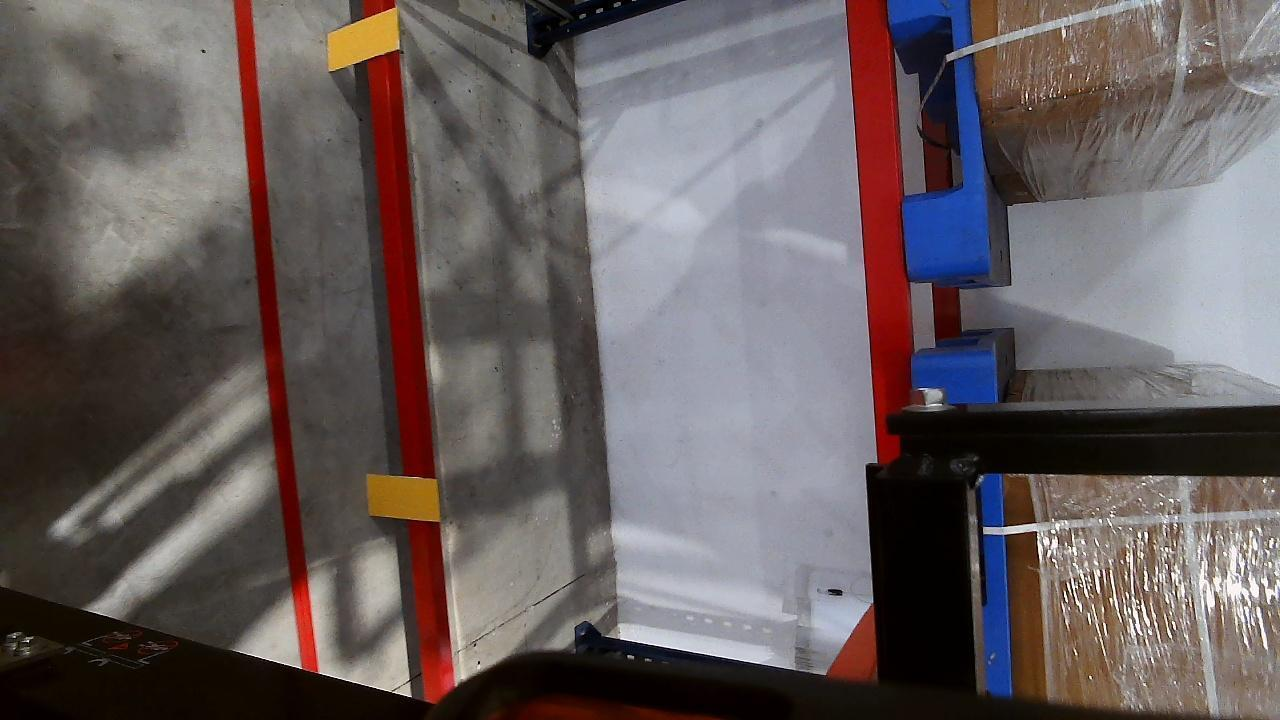red_line: (228, 0, 316, 674)
